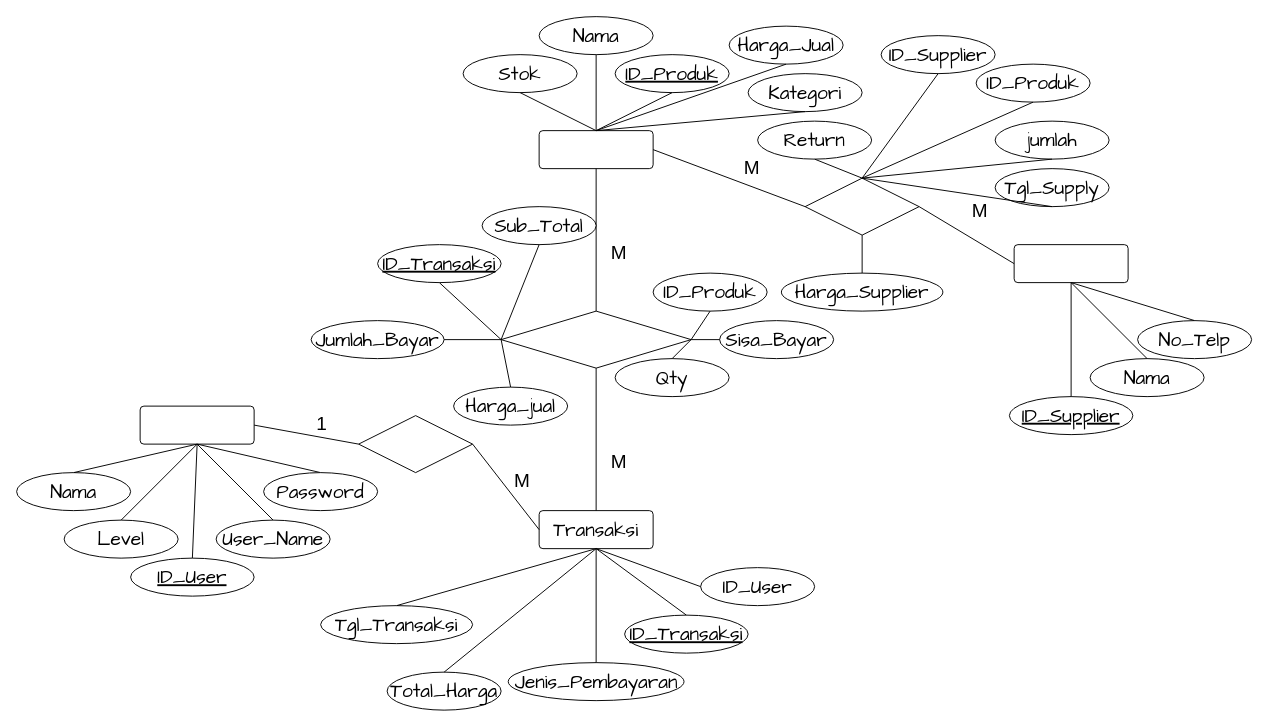
Image size: 1268x727. Some labels were removed from this diagram. Each missing label, with the centre of its shape:
Melayani: the point at 415,444
Melibatkan: the point at 595,339
Mensuply: the point at 861,206
Produk: the point at 595,149
Supplier: the point at 1070,263
User: the point at 196,424
